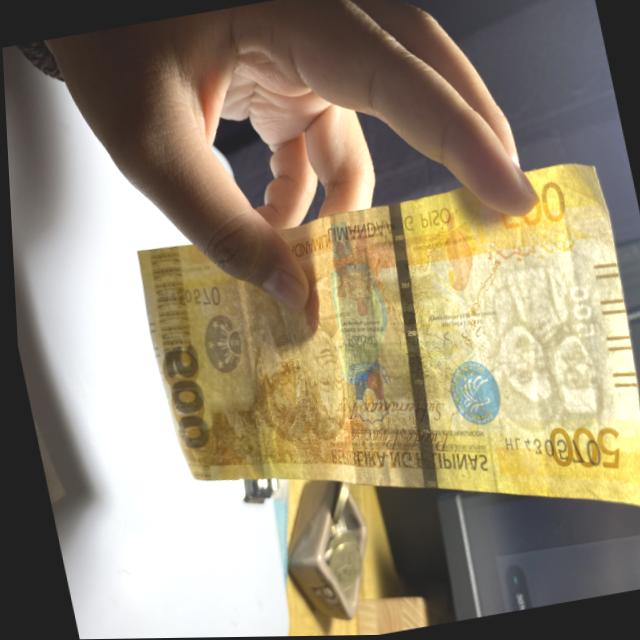500_big_parrot: (305, 214, 405, 414)
500_parrot_watermark: (428, 213, 478, 294)
value_watermark: (562, 278, 602, 344)
watermark: (471, 249, 610, 429)
